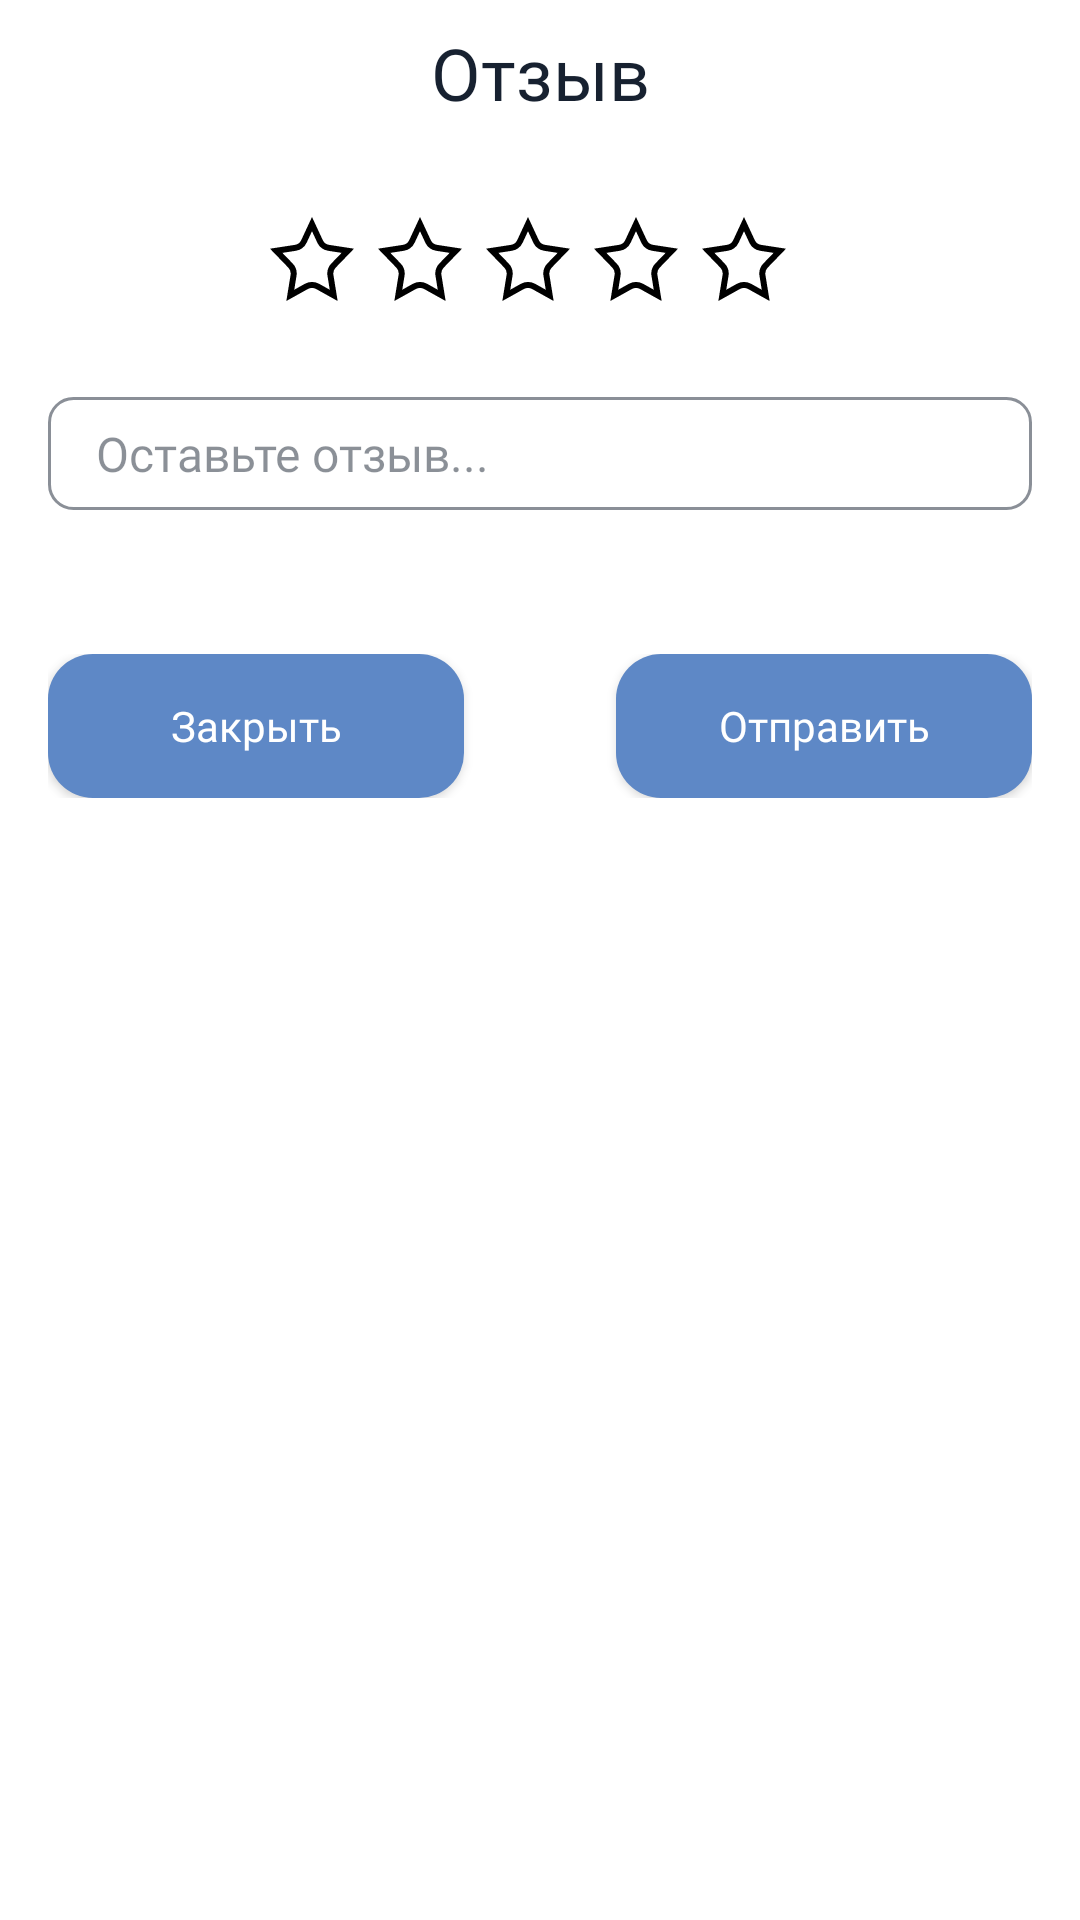

Icons on this 1080px×1920px Android screen, each with its box as (x1,y1,x2,y2):
rate empty: (270,217,354,301), (378,217,462,301), (486,217,570,301), (594,217,678,301), (702,217,786,301)
